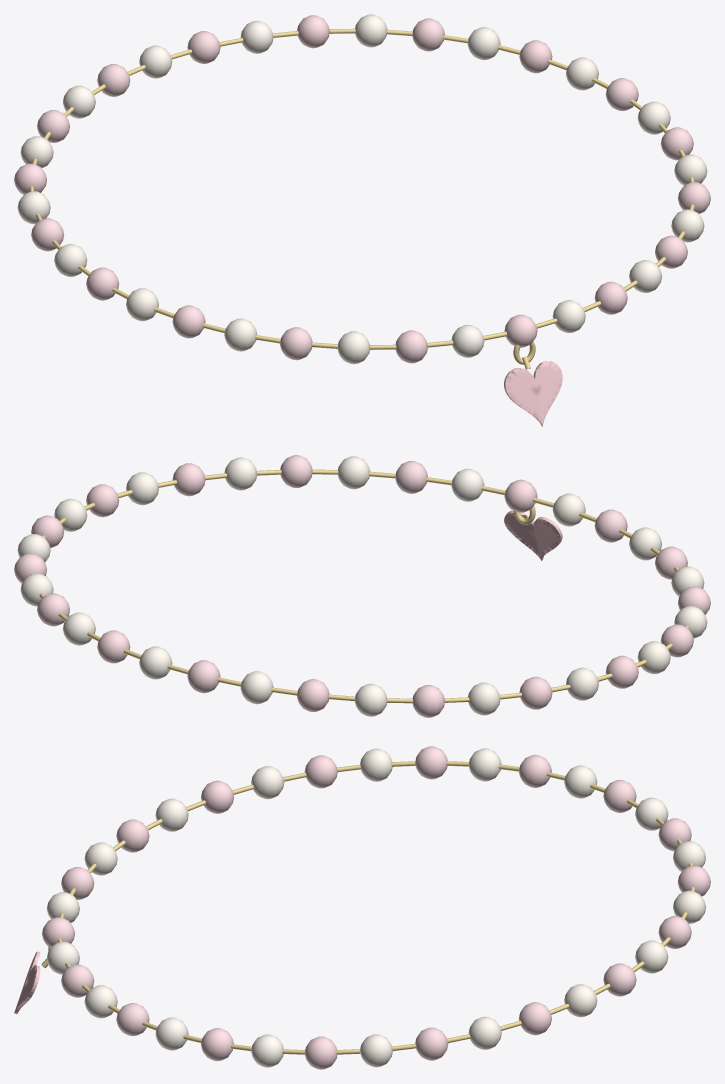
Rendered from restart_necklace_heart_bear.glb.
3 views of the same model, one above another, from view 1: azimuth 30°, elevation 25°; view 2: azimuth 150°, elevation 25°; view 3: azimuth 270°, elevation 25° (orthographic).
Visible parts, largest first — view 1: Hilo continuo del collar.001, Corazón bordado.001, Perla engarzada.050, Perla engarzada.051, Perla engarzada.067, Perla engarzada.068, Perla engarzada.070, Perla engarzada.066, Perla engarzada.069, Perla engarzada.052, Perla engarzada.049, Perla engarzada.071 (+26 smaller); view 2: Hilo continuo del collar.001, Corazón bordado.001, Perla engarzada.057, Perla engarzada.059, Perla engarzada.056, Perla engarzada.058, Perla engarzada.038, Perla engarzada.041, Perla engarzada.039, Perla engarzada.040, Perla engarzada.055, Perla engarzada.037 (+26 smaller); view 3: Hilo continuo del collar.001, Perla engarzada.046, Perla engarzada.045, Perla engarzada.043, Perla engarzada.064, Perla engarzada.062, Perla engarzada.044, Perla engarzada.047, Perla engarzada.063, Perla engarzada.065, Perla engarzada.061, Perla engarzada.048 (+26 smaller).
Boxes of the visible parts, x1,y1,x2,y2 form: Hilo continuo del collar.001: (29, 28, 694, 349); Corazón bordado.001: (504, 361, 562, 426); Perla engarzada.050: (412, 18, 444, 51); Perla engarzada.051: (355, 14, 387, 47); Perla engarzada.067: (224, 318, 257, 351); Perla engarzada.068: (279, 327, 312, 360); Perla engarzada.070: (395, 330, 427, 363); Perla engarzada.066: (172, 305, 205, 338); Perla engarzada.069: (337, 331, 370, 364); Perla engarzada.052: (297, 15, 329, 48); Perla engarzada.049: (467, 27, 500, 60); Perla engarzada.071: (451, 324, 484, 357); Hilo continuo del collar.001: (31, 469, 690, 703); Corazón bordado.001: (504, 510, 562, 560); Perla engarzada.057: (354, 683, 387, 716); Perla engarzada.059: (468, 682, 500, 715); Perla engarzada.056: (296, 679, 329, 712); Perla engarzada.058: (412, 684, 445, 717); Perla engarzada.038: (395, 460, 427, 493); Perla engarzada.041: (224, 457, 257, 490); Perla engarzada.039: (338, 456, 369, 489); Perla engarzada.040: (280, 455, 312, 488); Perla engarzada.055: (240, 671, 273, 704); Perla engarzada.037: (451, 468, 484, 501); Hilo continuo del collar.001: (57, 761, 695, 1054); Perla engarzada.046: (415, 1027, 448, 1060); Perla engarzada.045: (360, 1034, 392, 1067); Perla engarzada.043: (251, 1034, 283, 1067); Perla engarzada.064: (304, 755, 337, 788); Perla engarzada.062: (415, 746, 447, 779); Perla engarzada.044: (304, 1036, 337, 1069); Perla engarzada.047: (468, 1016, 501, 1049); Perla engarzada.063: (360, 748, 392, 781); Perla engarzada.065: (251, 766, 284, 799); Perla engarzada.061: (468, 748, 501, 781); Perla engarzada.048: (518, 1002, 551, 1035).
Bounding box in the file's own units: 0.5963 × 0.1367 × 0.5862.
